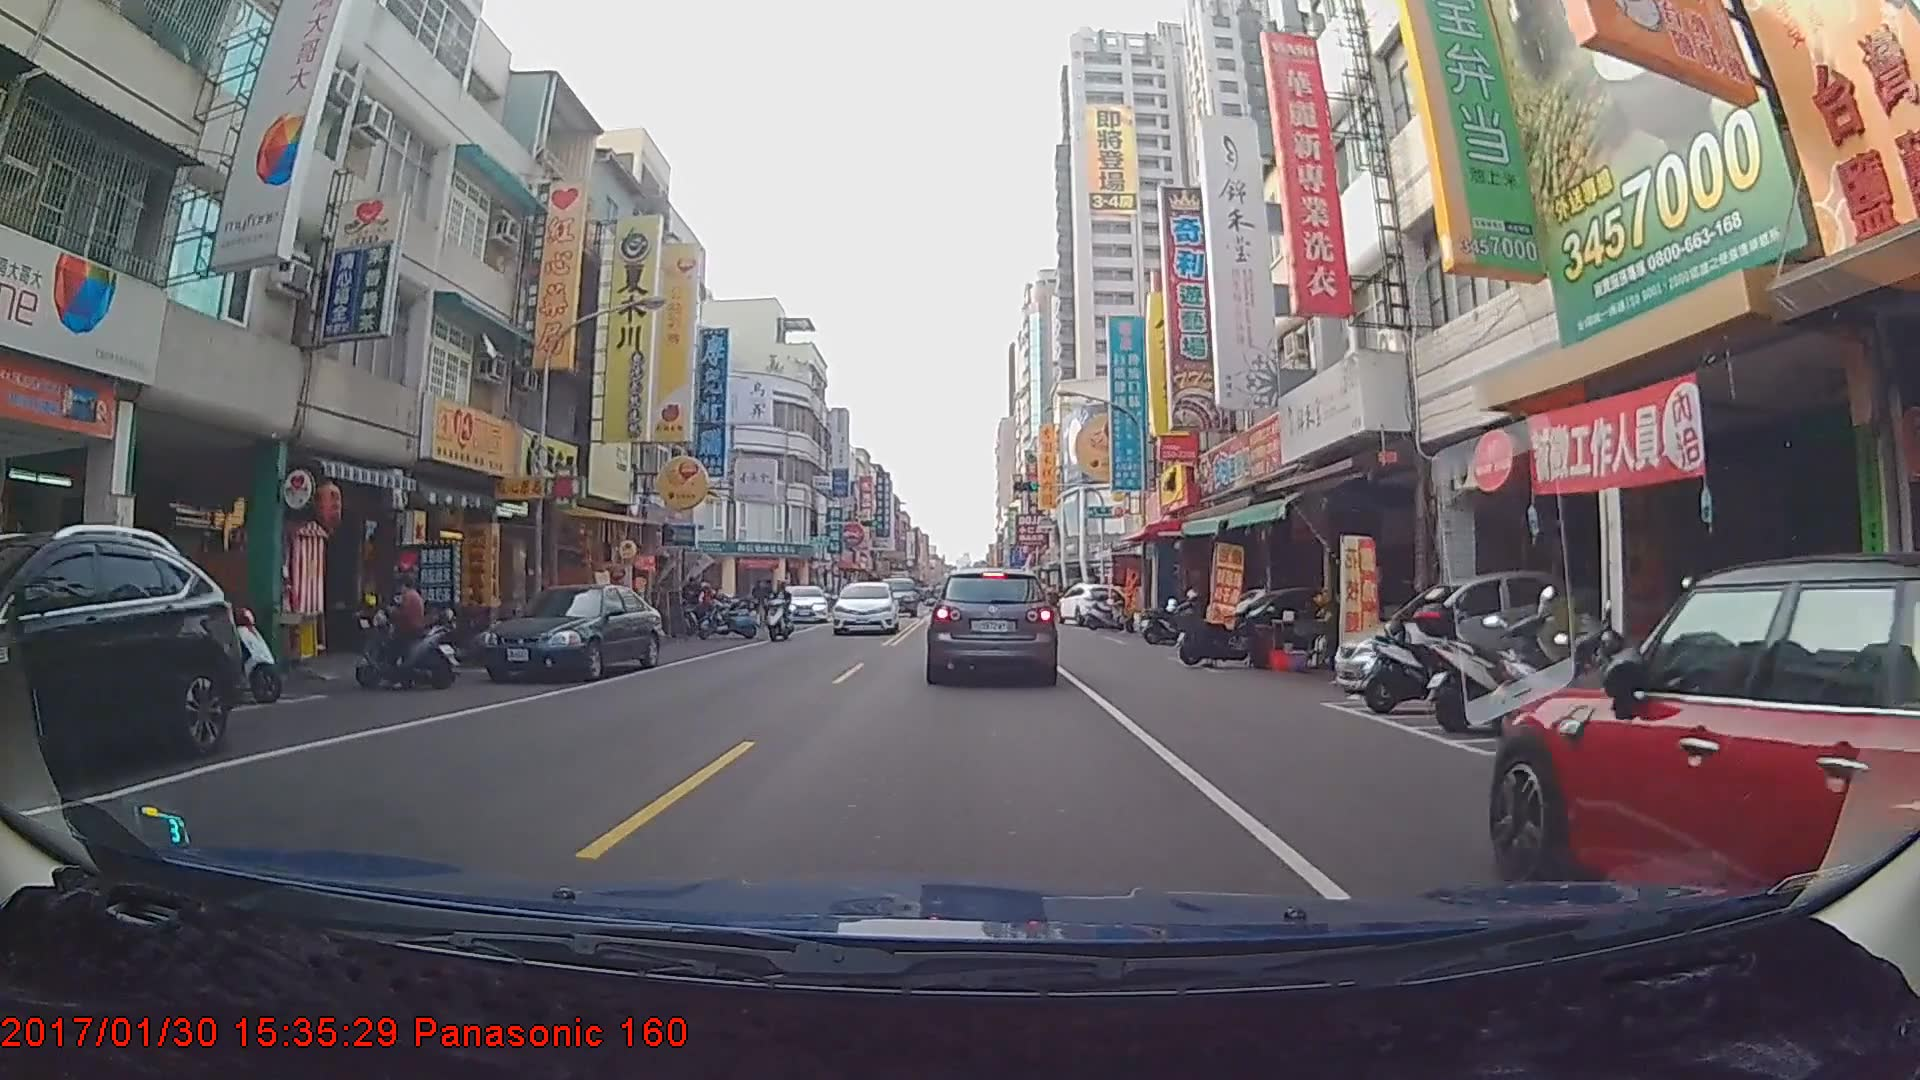rider: (349, 572, 468, 700), (764, 584, 795, 643)
vehicle: (1492, 555, 1919, 955), (0, 530, 244, 799), (479, 587, 667, 680), (927, 564, 1055, 681), (833, 579, 895, 634), (1055, 581, 1127, 628), (777, 581, 827, 621), (872, 577, 915, 618)
